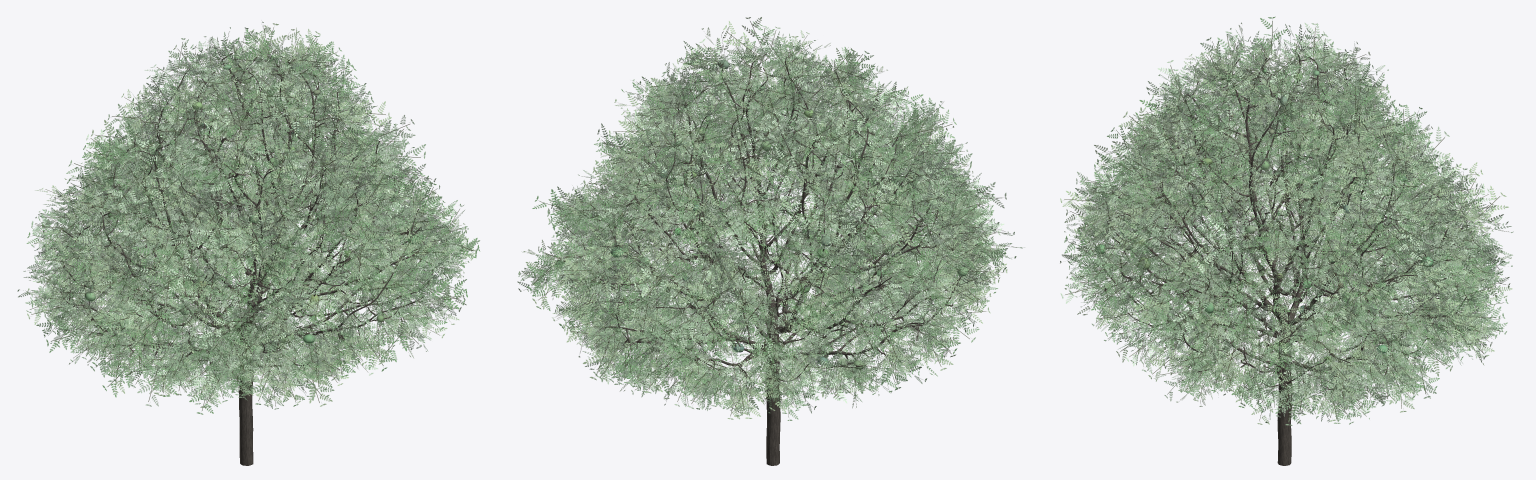
The model's file is tree_53_broadleaf.glb.
3 views of the same model, side by side, from view 1: azimuth 30°, elevation 25°; view 2: azimuth 150°, elevation 25°; view 3: azimuth 270°, elevation 25° (orthographic).
Visible parts, largest first — view 1: tree_53_broadleaf.leaves, tree_53_broadleaf.trunk_branches, tree_53_broadleaf.foliage_volume; view 2: tree_53_broadleaf.leaves, tree_53_broadleaf.trunk_branches, tree_53_broadleaf.foliage_volume; view 3: tree_53_broadleaf.leaves, tree_53_broadleaf.trunk_branches, tree_53_broadleaf.foliage_volume.
Part boxes in pixels (x1=…): tree_53_broadleaf.leaves: x1=17, y1=21, x2=480, y2=414; tree_53_broadleaf.trunk_branches: x1=60, y1=53, x2=438, y2=465; tree_53_broadleaf.foliage_volume: x1=84, y1=63, x2=423, y2=351; tree_53_broadleaf.leaves: x1=517, y1=17, x2=1024, y2=420; tree_53_broadleaf.trunk_branches: x1=564, y1=52, x2=977, y2=465; tree_53_broadleaf.foliage_volume: x1=555, y1=60, x2=968, y2=369; tree_53_broadleaf.leaves: x1=1060, y1=16, x2=1513, y2=425; tree_53_broadleaf.trunk_branches: x1=1101, y1=55, x2=1472, y2=465; tree_53_broadleaf.foliage_volume: x1=1095, y1=68, x2=1474, y2=390.
Bounding box in the file's own units: 16.44 × 16.42 × 15.62.
Materials: 3 (2 with a texture image).
